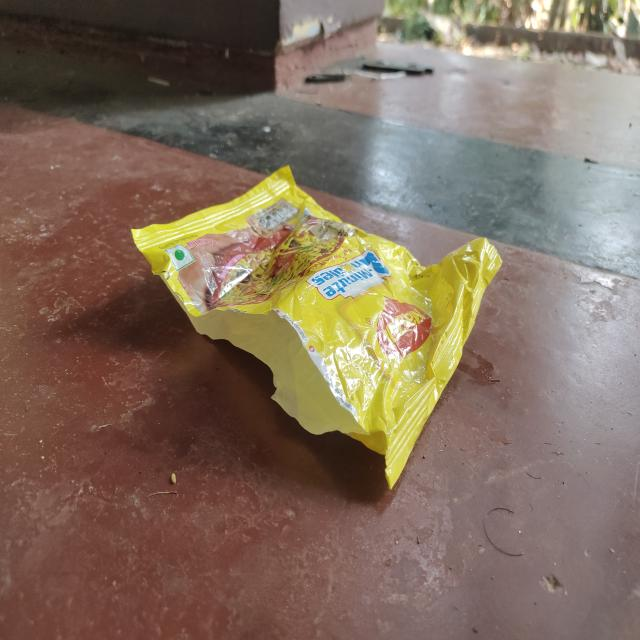plastic: (127, 160, 508, 506)
